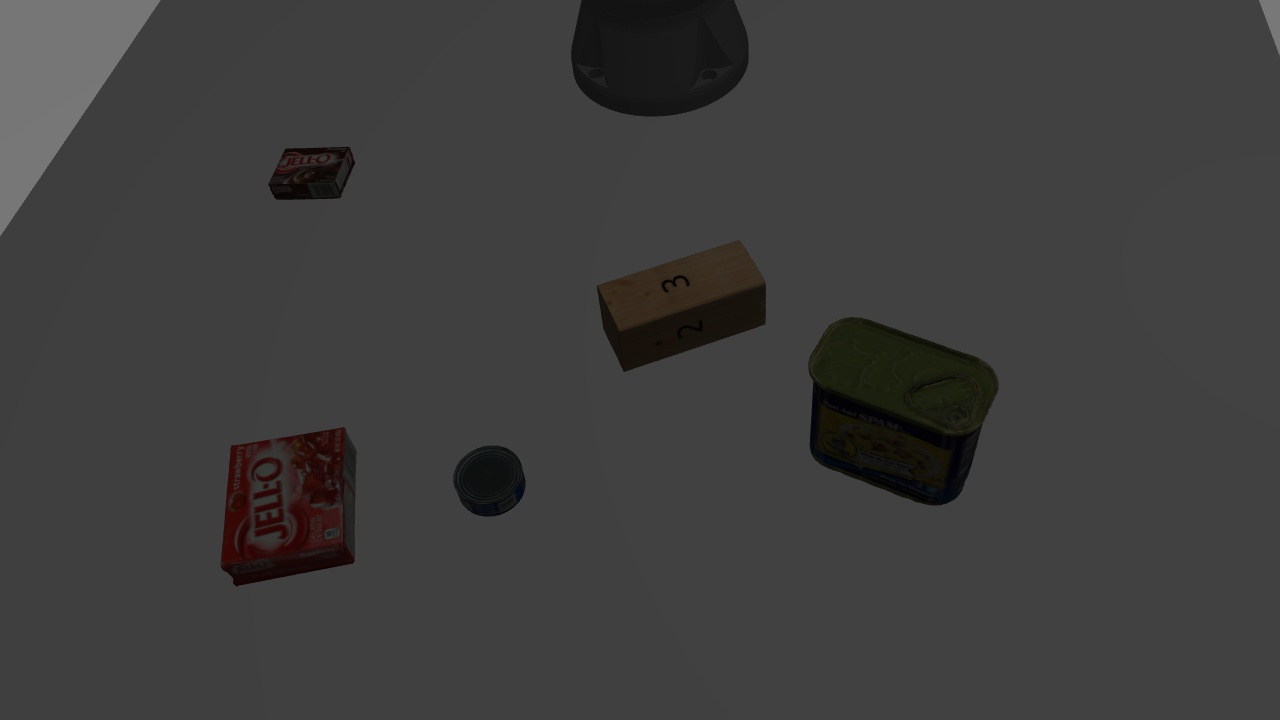gelatin_box: (219, 438, 365, 586)
potted_meat_can: (797, 312, 986, 510)
pudding_box: (268, 140, 356, 207)
tuna_fish_can: (449, 444, 534, 519)
wood_block: (591, 232, 775, 381), (589, 231, 773, 379), (704, 301, 733, 363)
